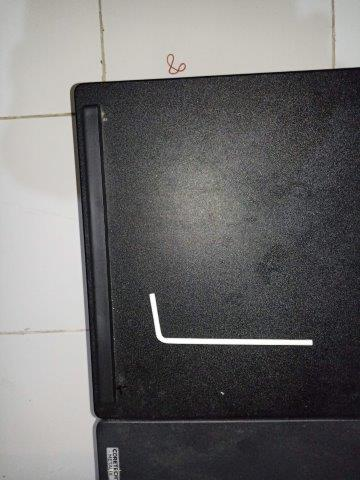karet: (166, 53, 186, 74)
sedotan: (148, 292, 314, 347)
